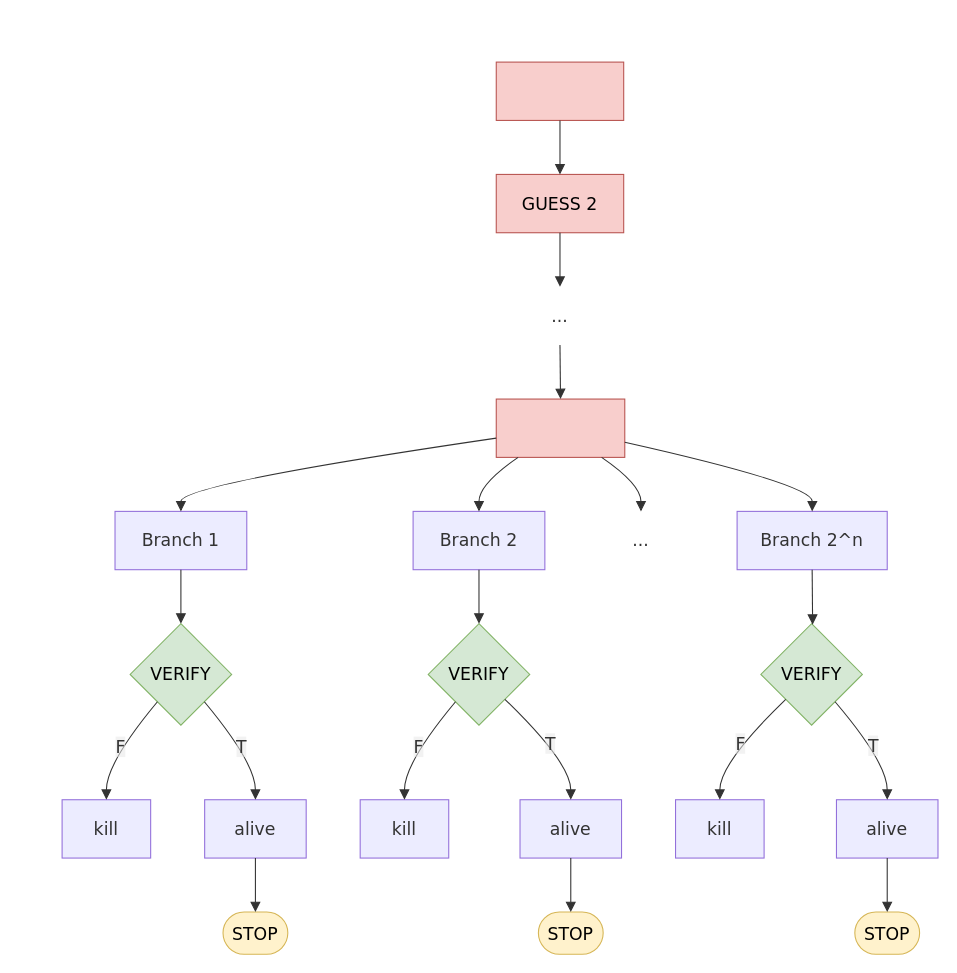
This 957x973 diagram has some shape labels left out. The centre of each missing label's shape, as x and y in pixels:
"GUESS 1" belongs at point (559, 90).
"GUESS n" belongs at point (560, 427).
